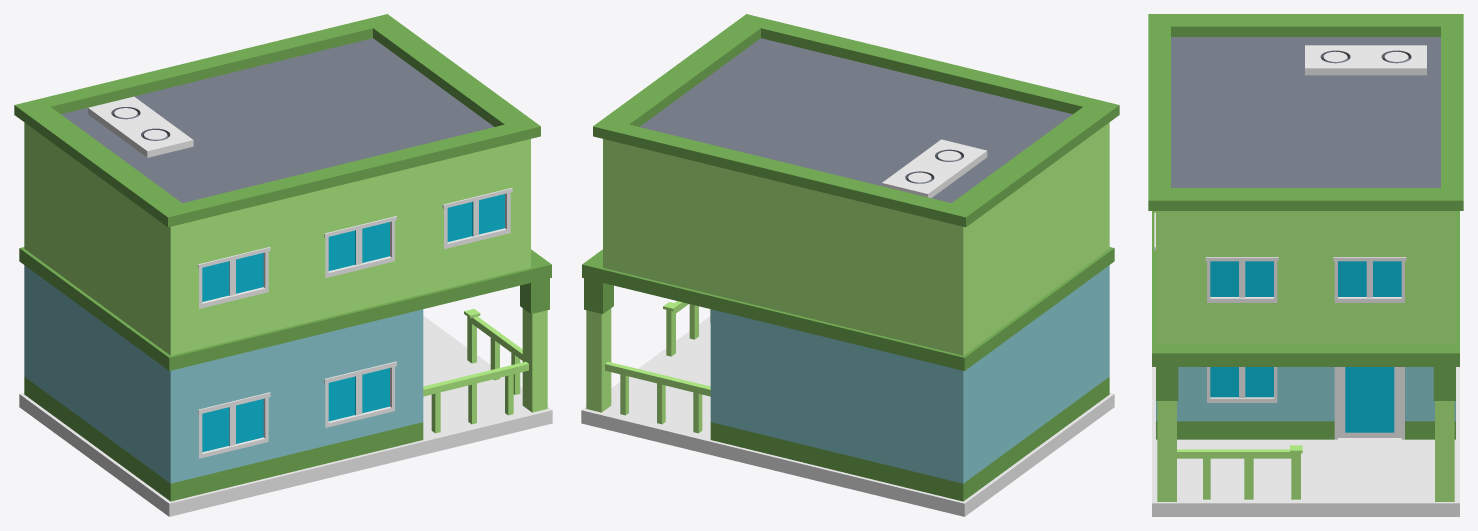
The model's file is house2.fbx.
3 renders of one model, left to right at view 1: azimuth 30°, elevation 25°; view 2: azimuth 150°, elevation 25°; view 3: azimuth 270°, elevation 25°, orthographic. The views are drawn at different scales.
Visible parts, largest first — view 1: house2; view 2: house2; view 3: house2.
Boxes of the visible parts, x1=… form: house2: x1=14, y1=14, x2=552, y2=516; house2: x1=581, y1=14, x2=1119, y2=516; house2: x1=1148, y1=14, x2=1463, y2=516.
Bounding box in the file's own units: 610 × 455 × 420.
